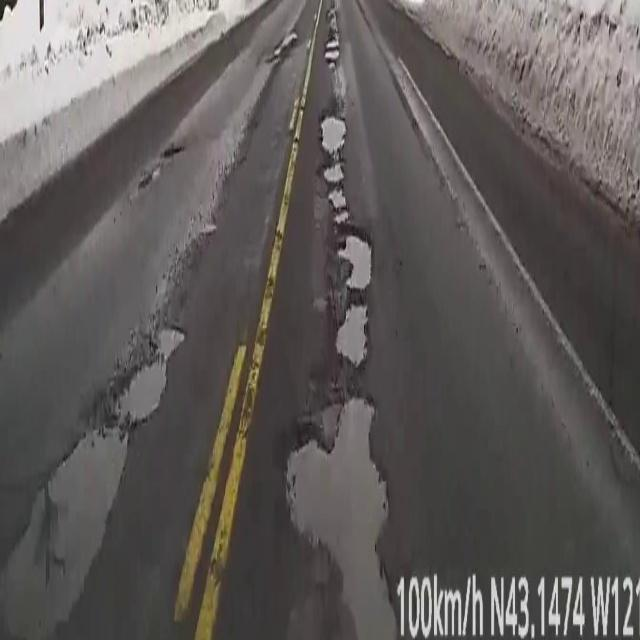pothole: (0, 410, 184, 563), (320, 110, 371, 364), (286, 488, 400, 590), (326, 0, 340, 65)
